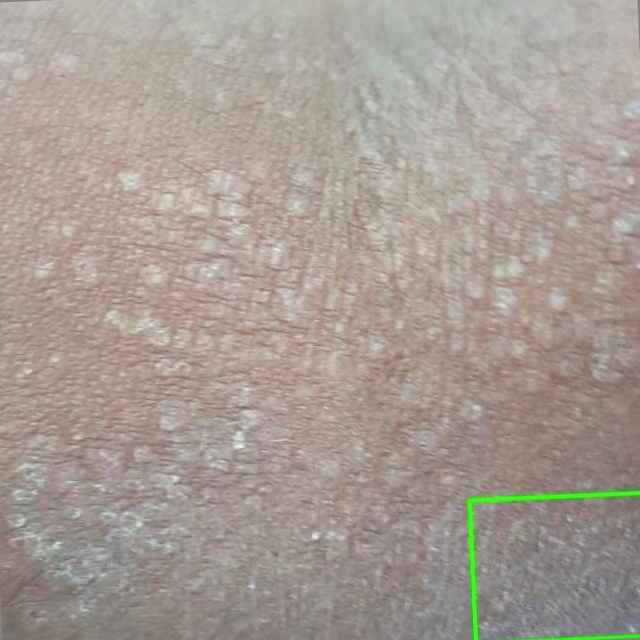Atopic Dermatitis: (468, 492, 639, 639)
